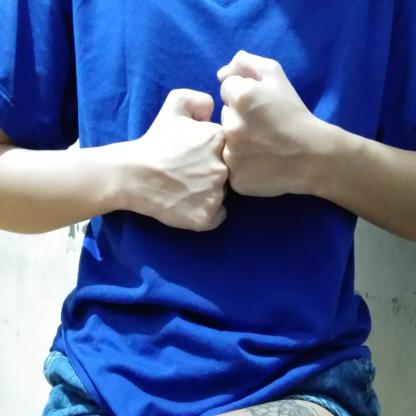brother: (128, 44, 316, 249)
